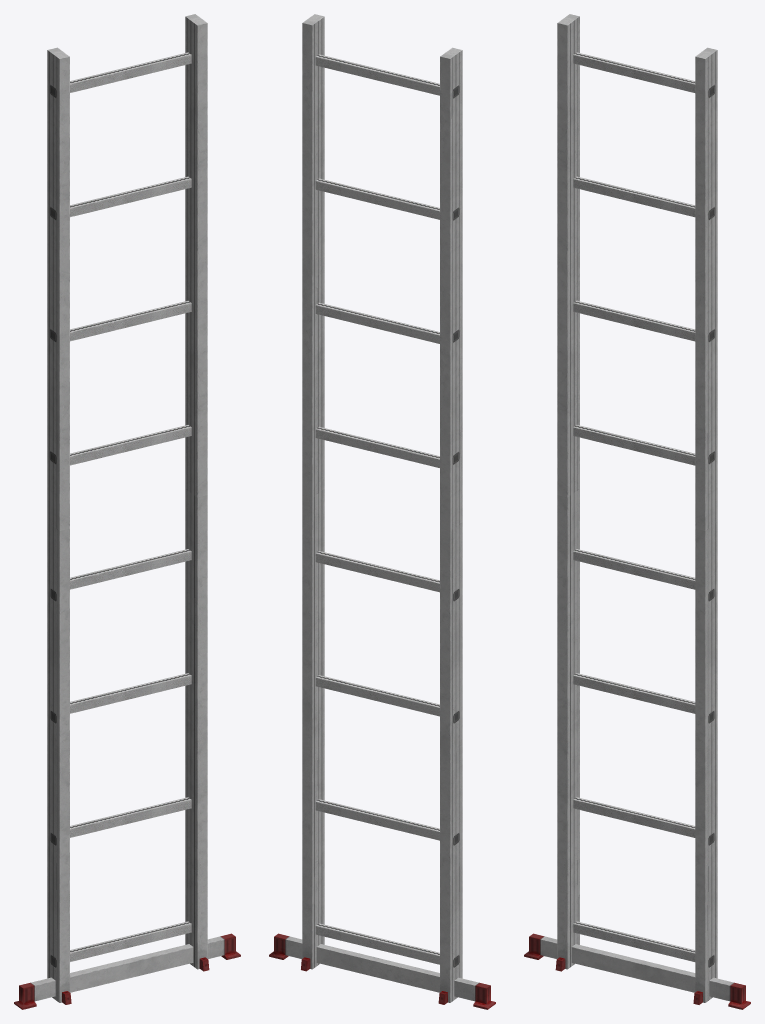
File: Stairs.fbx
3 views of the same model, side by side, from view 1: azimuth 30°, elevation 25°; view 2: azimuth 150°, elevation 25°; view 3: azimuth 330°, elevation 25° (orthographic).
Parts seen in each view (by area): view 1: Stairs; view 2: Stairs; view 3: Stairs.
Part boxes in pixels (x1,y1,x2,y2): Stairs: (14, 14, 240, 1009); Stairs: (269, 14, 495, 1009); Stairs: (524, 14, 750, 1009).
Size of the model in its own units: 96.87 by 400 by 15.38.
